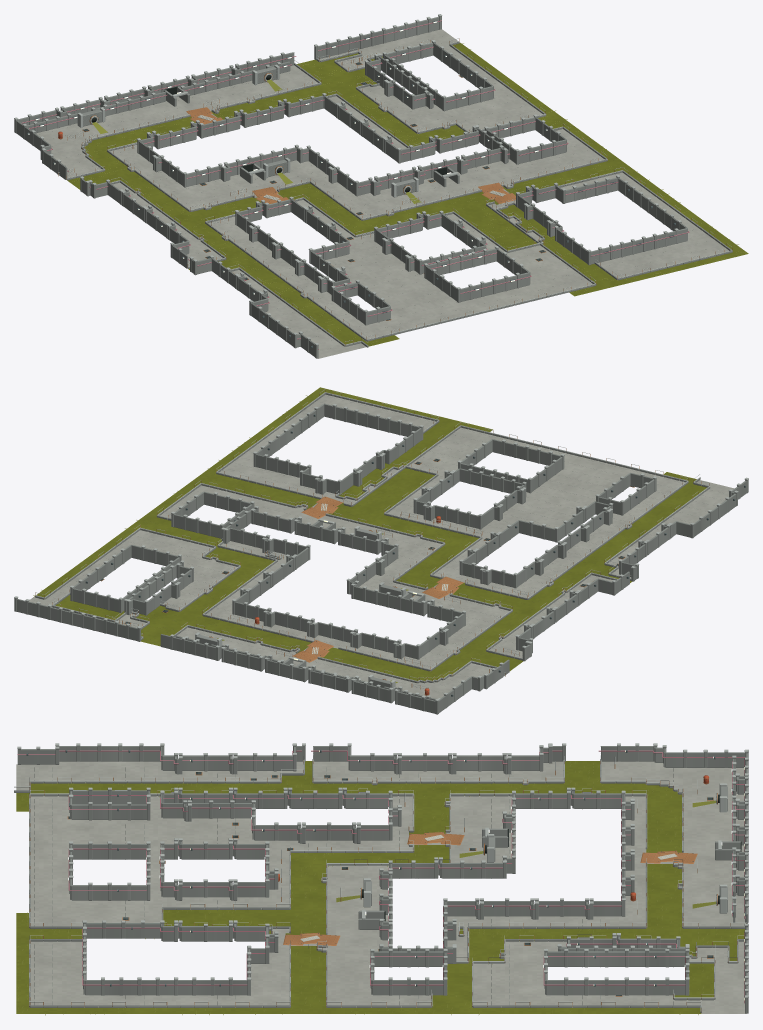
The model's file is terrain-props.glb.
3 views of the same model, one above another, from view 1: azimuth 30°, elevation 25°; view 2: azimuth 150°, elevation 25°; view 3: azimuth 270°, elevation 25° (orthographic). The views are drawn at different scales.
Visible parts, largest first — view 1: hm11-opaque-chunk-0-0, hm11-opaque-chunk-1-0, hm11-opaque-chunk-2-0, hm11-opaque-chunk-3-2, hm11-opaque-chunk-1-4, hm11-opaque-chunk-1-3, hm11-opaque-chunk-4-0, hm11-opaque-chunk-0-4, hm11-opaque-chunk-2-4, hm11-opaque-chunk-0-3, hm11-opaque-chunk-2-2, hm11-opaque-chunk-4-2 (+30 smaller); view 2: hm11-opaque-chunk-1-0, hm11-opaque-chunk-2-0, hm11-opaque-chunk-0-0, hm11-opaque-chunk-1-4, hm11-opaque-chunk-1-3, hm11-opaque-chunk-0-3, hm11-opaque-chunk-0-4, hm11-opaque-chunk-3-2, hm11-opaque-chunk-4-0, hm11-opaque-chunk-3-1, hm11-opaque-chunk-0-1, hm11-opaque-chunk-3-0 (+32 smaller); view 3: hm11-opaque-chunk-0-4, hm11-opaque-chunk-0-0, hm11-opaque-chunk-1-4, hm11-opaque-chunk-1-3, hm11-opaque-chunk-4-0, hm11-opaque-chunk-3-1, hm11-opaque-chunk-0-2, hm11-opaque-chunk-0-3, hm11-opaque-chunk-0-1, hm11-opaque-chunk-4-1, hm11-opaque-chunk-4-2, hm11-opaque-chunk-1-0 (+33 smaller).
Part boxes in pixels (bbox=[...]): hm11-opaque-chunk-0-0: bbox=[14, 100, 147, 179]; hm11-opaque-chunk-1-0: bbox=[89, 78, 229, 149]; hm11-opaque-chunk-2-0: bbox=[177, 58, 323, 131]; hm11-opaque-chunk-3-2: bbox=[397, 129, 529, 201]; hm11-opaque-chunk-1-4: bbox=[335, 263, 481, 335]; hm11-opaque-chunk-1-3: bbox=[308, 222, 430, 287]; hm11-opaque-chunk-4-0: bbox=[351, 14, 491, 95]; hm11-opaque-chunk-0-4: bbox=[251, 285, 391, 358]; hm11-opaque-chunk-2-4: bbox=[422, 246, 571, 313]; hm11-opaque-chunk-0-3: bbox=[189, 236, 335, 315]; hm11-opaque-chunk-2-2: bbox=[302, 161, 441, 220]; hm11-opaque-chunk-4-2: bbox=[477, 114, 607, 179]; hm11-opaque-chunk-1-0: bbox=[277, 622, 416, 696]; hm11-opaque-chunk-2-0: bbox=[184, 602, 328, 674]; hm11-opaque-chunk-0-0: bbox=[364, 639, 509, 714]; hm11-opaque-chunk-1-4: bbox=[526, 452, 663, 509]; hm11-opaque-chunk-1-3: bbox=[465, 481, 609, 548]; hm11-opaque-chunk-0-3: bbox=[549, 503, 694, 581]; hm11-opaque-chunk-0-4: bbox=[610, 472, 748, 536]; hm11-opaque-chunk-3-2: bbox=[227, 501, 366, 559]; hm11-opaque-chunk-4-0: bbox=[14, 561, 164, 632]; hm11-opaque-chunk-3-1: bbox=[162, 528, 308, 604]; hm11-opaque-chunk-0-1: bbox=[426, 606, 556, 668]; hm11-opaque-chunk-3-0: bbox=[103, 576, 247, 652]; hm11-opaque-chunk-0-4: bbox=[14, 743, 162, 811]; hm11-opaque-chunk-0-0: bbox=[596, 743, 748, 811]; hm11-opaque-chunk-1-4: bbox=[29, 794, 162, 862]; hm11-opaque-chunk-1-3: bbox=[159, 794, 308, 863]; hm11-opaque-chunk-4-0: bbox=[598, 945, 748, 1013]; hm11-opaque-chunk-3-1: bbox=[447, 898, 605, 963]; hm11-opaque-chunk-0-2: bbox=[304, 743, 454, 811]; hm11-opaque-chunk-0-3: bbox=[155, 743, 313, 808]; hm11-opaque-chunk-0-1: bbox=[450, 743, 604, 811]; hm11-opaque-chunk-4-1: bbox=[452, 945, 604, 1007]; hm11-opaque-chunk-4-2: bbox=[326, 945, 452, 1007]; hm11-opaque-chunk-1-0: bbox=[621, 794, 748, 863].
Size of the model in its own units: 57.6 by 1.8 by 69.87.
3 materials, 2 textured.
